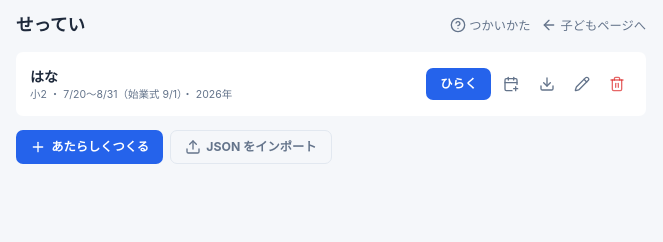
管理画面トップのエクスポート › 書き出したことを画面が言い、押し直せるリンクを出す
Click the button named "エクスポート（JSON）" at point(546, 84), box [532,69,562,99]
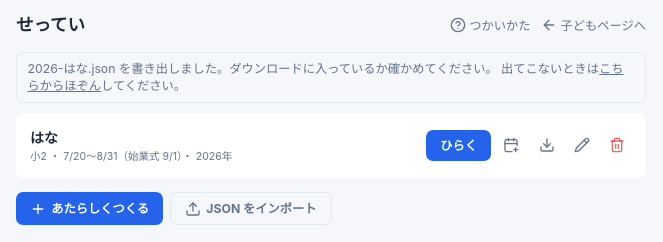
Check: the text "2026-はな.json を書き出しました。" is shown, box [28,60,599,76]
